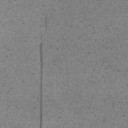surface scratch: (39, 42, 44, 128)
